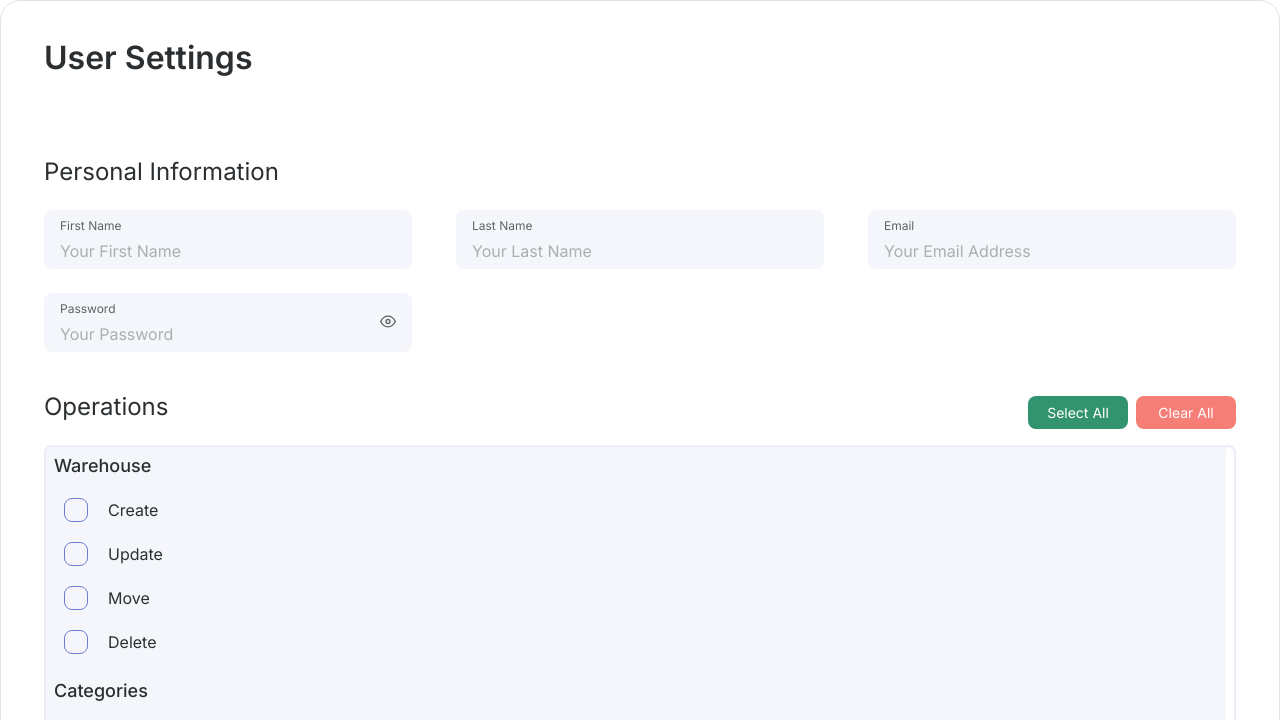
UserForm.vue › shows error for invalid email format on blur
This screenshot has width=1280, height=720.
Type "invalidemail" into the field with placeholder "Your Email Address" at [1052, 251], box [884,241,1220,261]
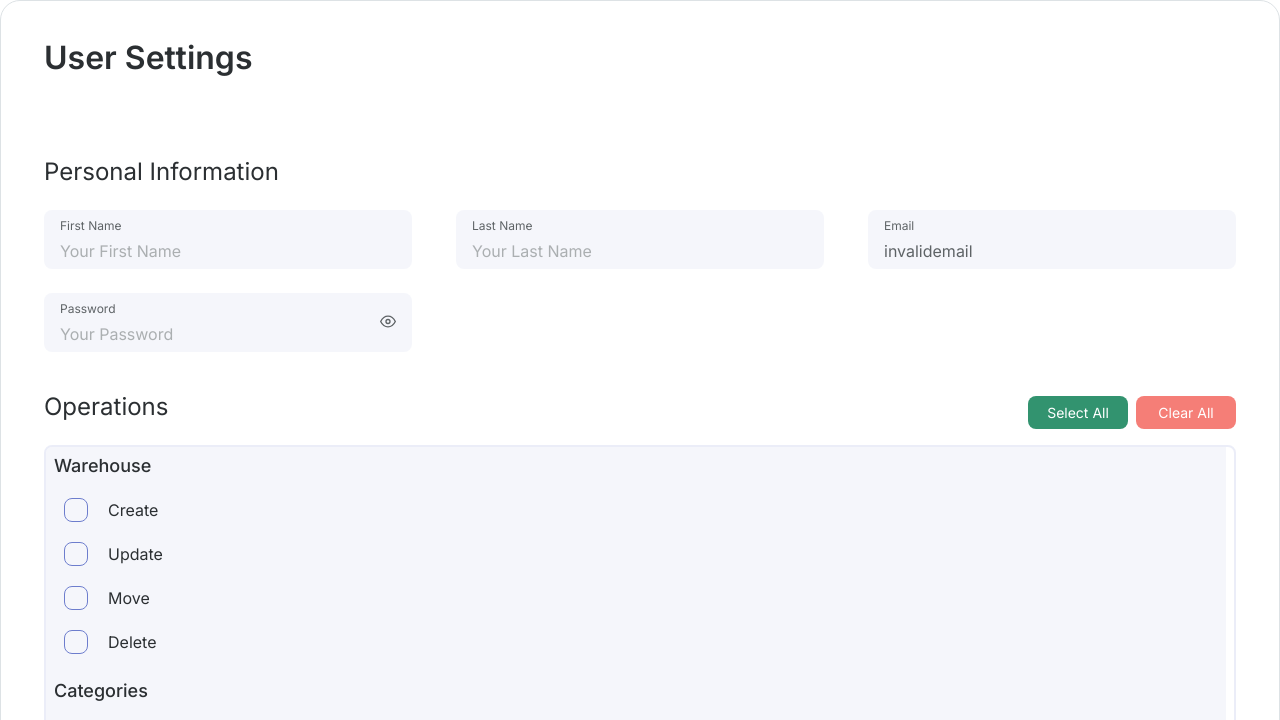
Leave the field with placeholder "Your Email Address", box [884,241,1220,261]
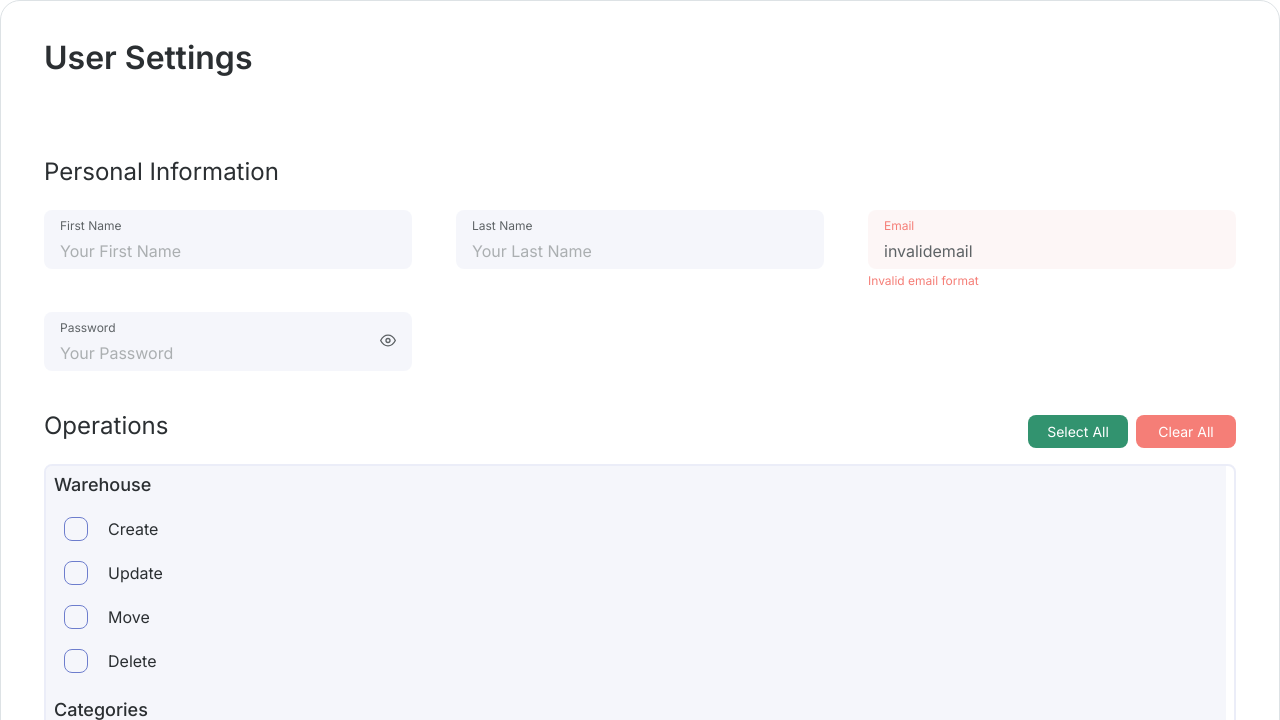
Result: the text "Invalid email format" is shown at [868,273,979,288]
